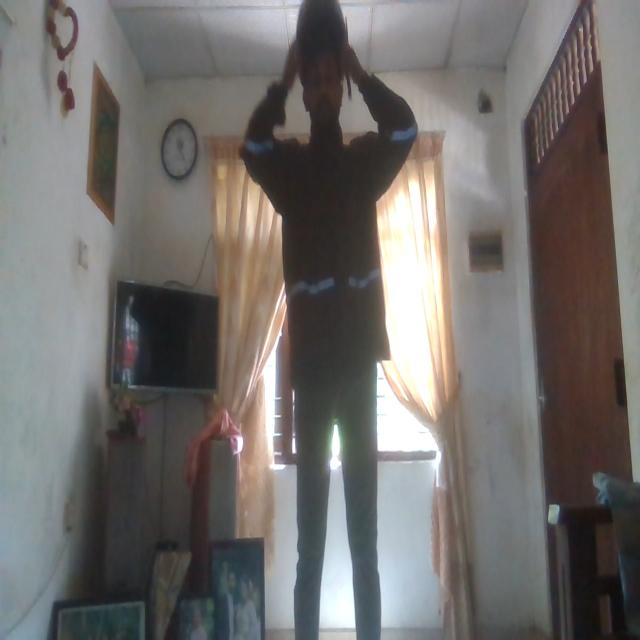Helmet_Wearer: (289, 1, 356, 123)
Person: (245, 3, 413, 640), (242, 88, 414, 383)
